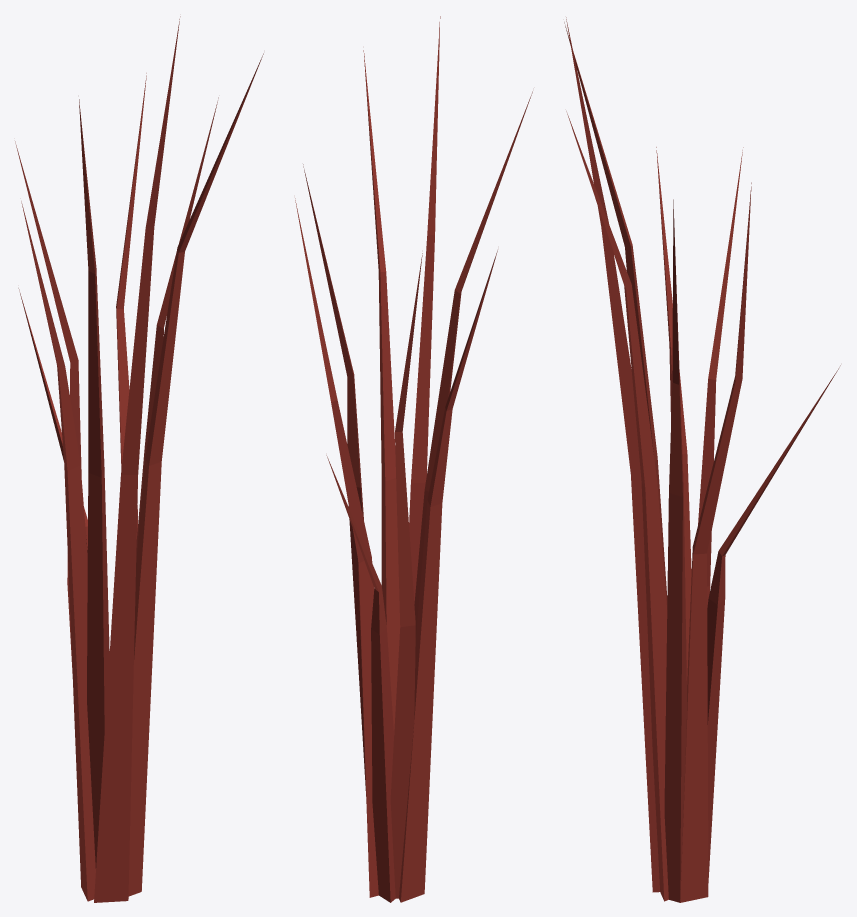
Rendered from Grass_7_Red.fbx.
3 renders of one model, left to right at view 1: azimuth 30°, elevation 25°; view 2: azimuth 150°, elevation 25°; view 3: azimuth 270°, elevation 25°, orthographic. The views are drawn at different scales.
Visible parts, largest first — view 1: Grass_7_Red; view 2: Grass_7_Red; view 3: Grass_7_Red.
Part boxes in pixels (x1,y1,x2,y2): Grass_7_Red: [15, 16, 263, 902]; Grass_7_Red: [295, 16, 532, 902]; Grass_7_Red: [564, 17, 840, 902].
Size of the model in its own units: 23.91 by 101 by 28.97.
